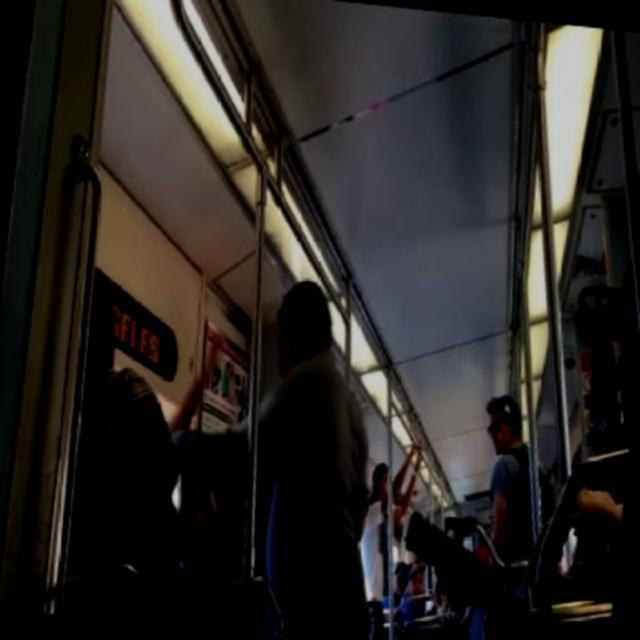fight: (60, 252, 400, 638)
non-fight: (468, 386, 564, 548)
